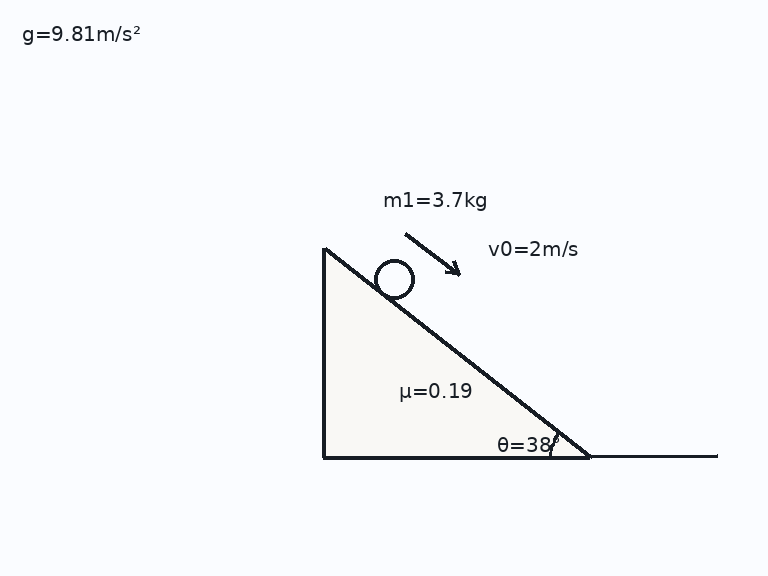ball: (372, 257, 416, 301)
ramp: (321, 246, 592, 459)
